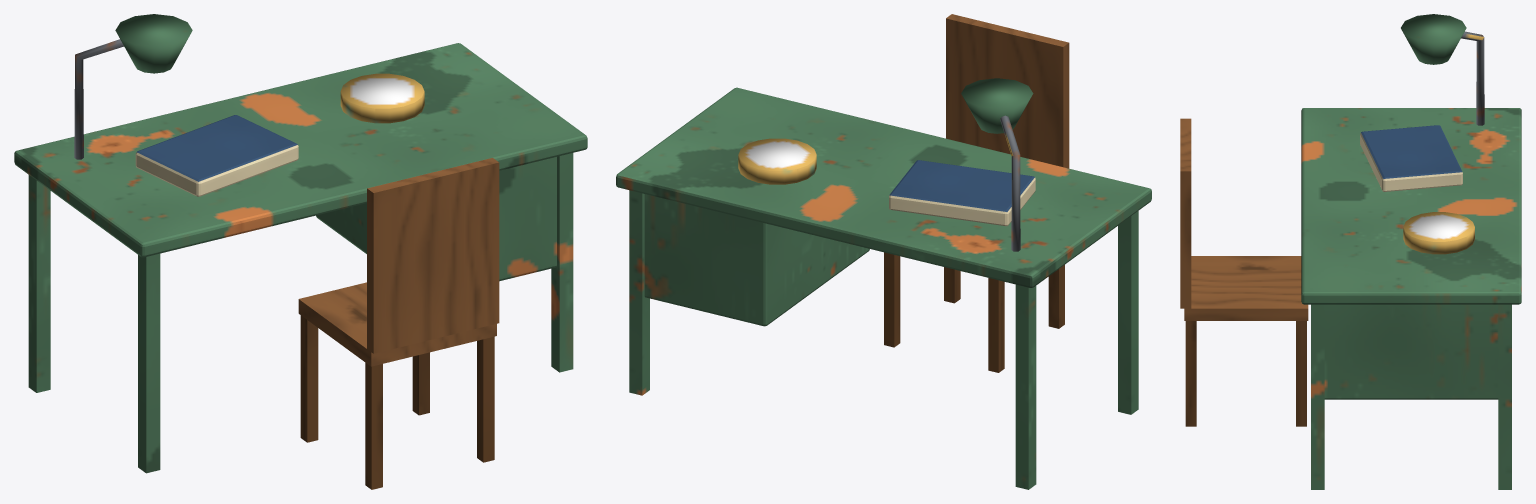
The model's file is station_desk.glb.
3 renders of one model, left to right at view 1: azimuth 30°, elevation 25°; view 2: azimuth 150°, elevation 25°; view 3: azimuth 270°, elevation 25°, orthographic. The views are drawn at different scales.
Visible parts, largest first — view 1: StationDesk; view 2: StationDesk; view 3: StationDesk.
Part boxes in pixels (box(x1,y1,x2,y2)): StationDesk: box(14, 14, 587, 489); StationDesk: box(616, 14, 1151, 489); StationDesk: box(1180, 14, 1521, 489).
Bounding box in the file's own units: 1.6 × 1.27 × 1.24.
Materials: 1 (1 with a texture image).
